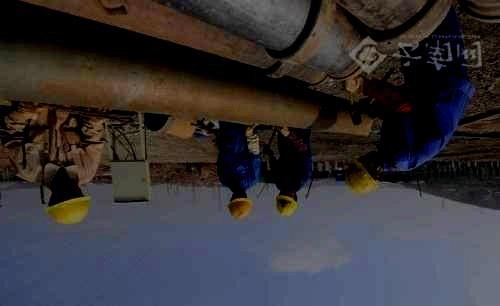helmet: (44, 181, 92, 227), (343, 150, 385, 196), (226, 189, 253, 220), (275, 188, 299, 217)
